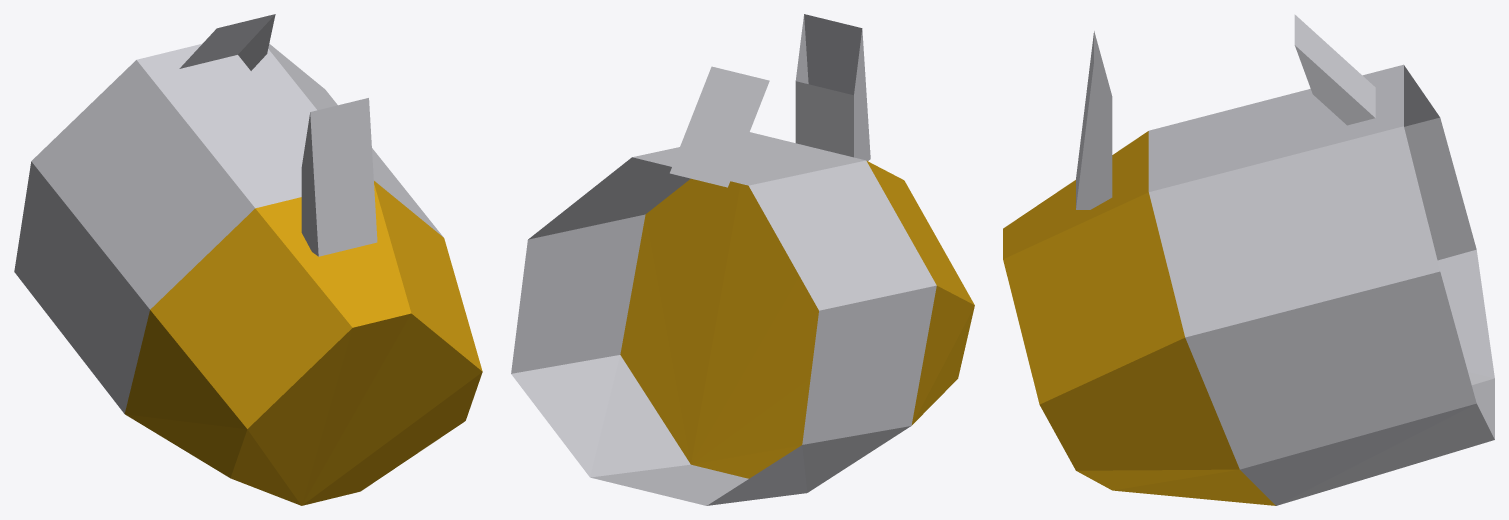
File: npc_world_drunken_dwarf_6.obj
The picture shows the model from 3 angles, left to right: view 1: azimuth 30°, elevation 25°; view 2: azimuth 150°, elevation 25°; view 3: azimuth 270°, elevation 25°; orthographic projection. The views are drawn at different scales.
Bounding box in the file's own units: 0.1562 × 0.2109 × 0.2109.
